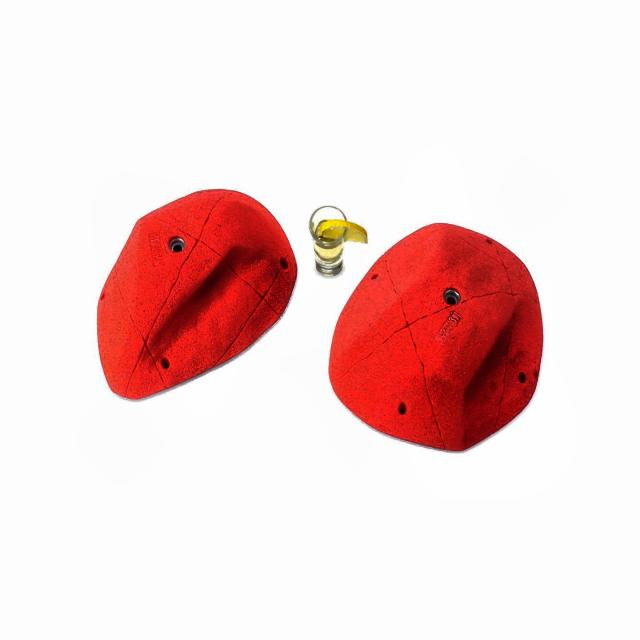Hold: (329, 218, 540, 457), (98, 178, 299, 407)
